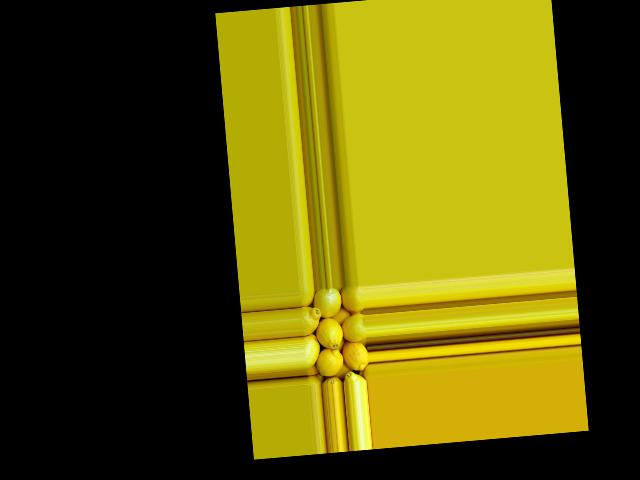lemon: (300, 288, 316, 305)
